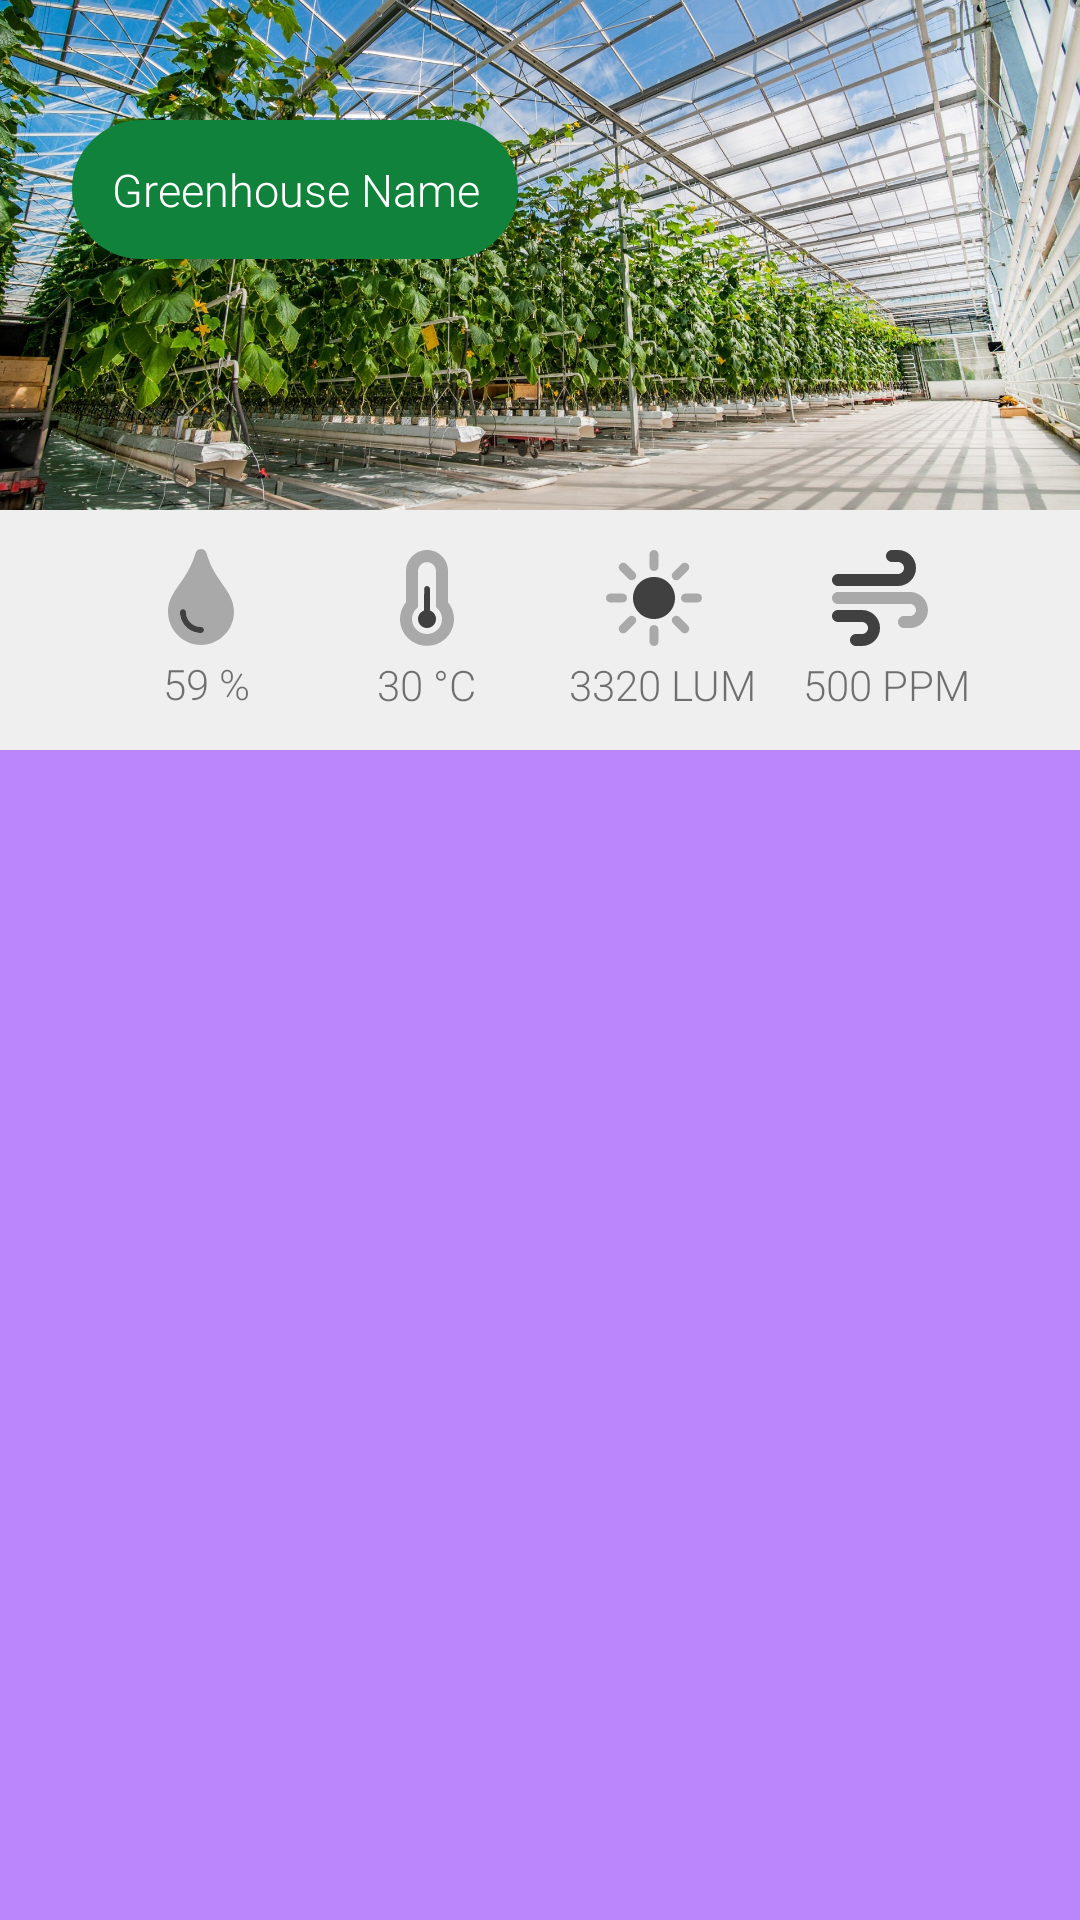

Locate icon controls on the screen. Image size 1080px×1920px, boxes as (x1, y1, x2, y2).
droplet: (168, 549, 234, 645)
sun bright: (606, 550, 702, 646)
temperature half: (400, 550, 454, 646)
wind: (832, 550, 928, 646)
